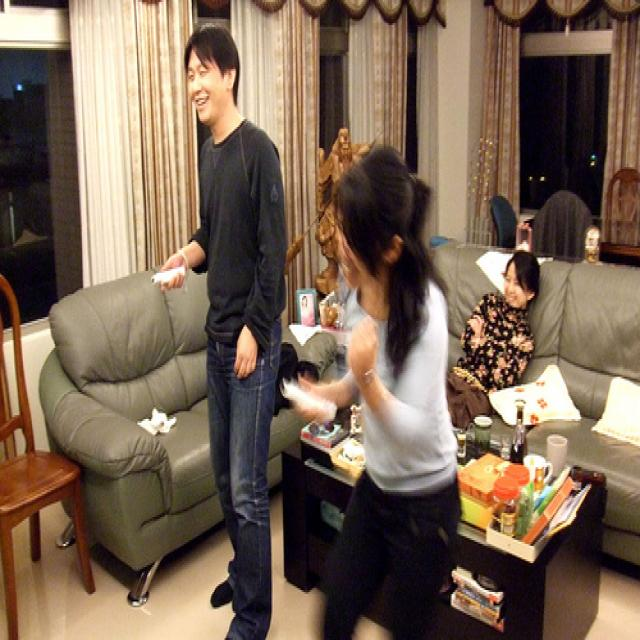chair: (0, 276, 95, 628), (521, 192, 595, 266), (601, 169, 640, 257), (490, 195, 519, 247)
dining table: (591, 217, 639, 255)
